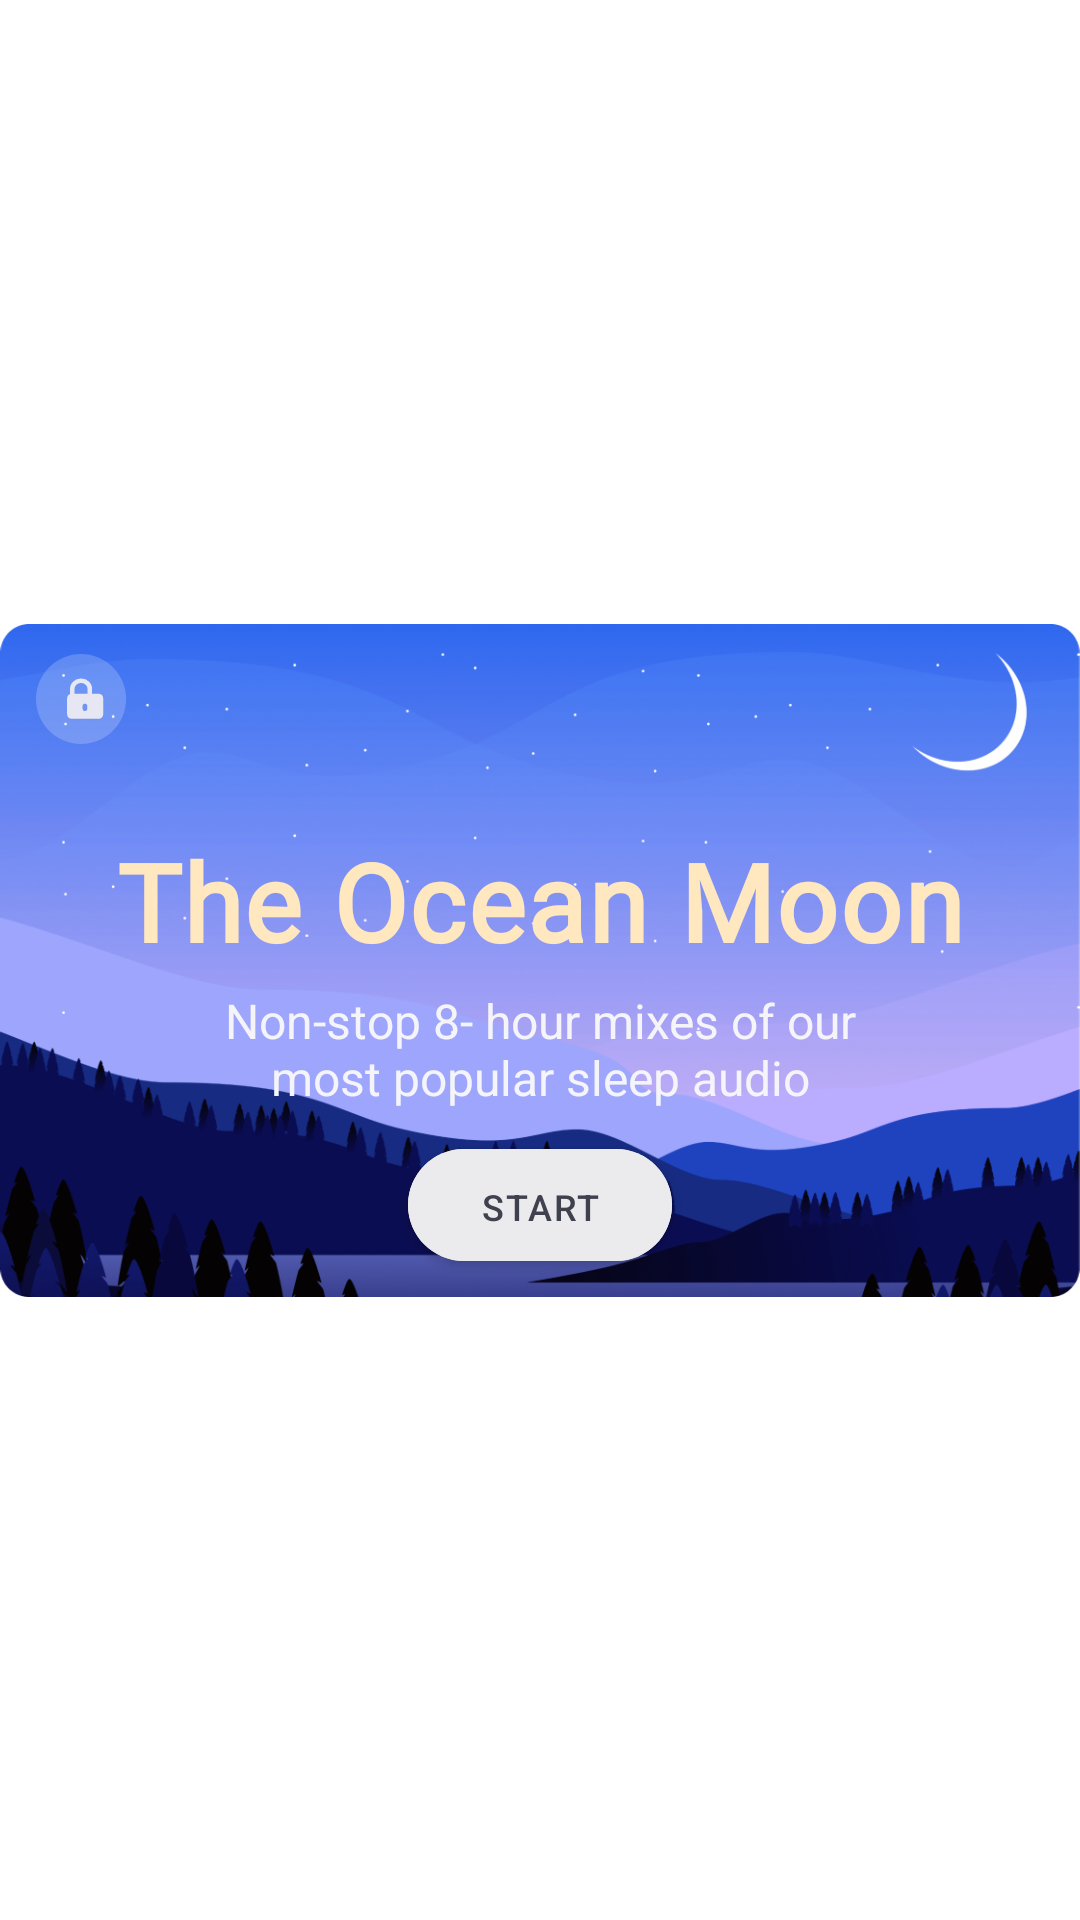

Point at icon controls on the screen. Image size 1080px×1920px, points as [x,y].
sleep lock: [81,709]
